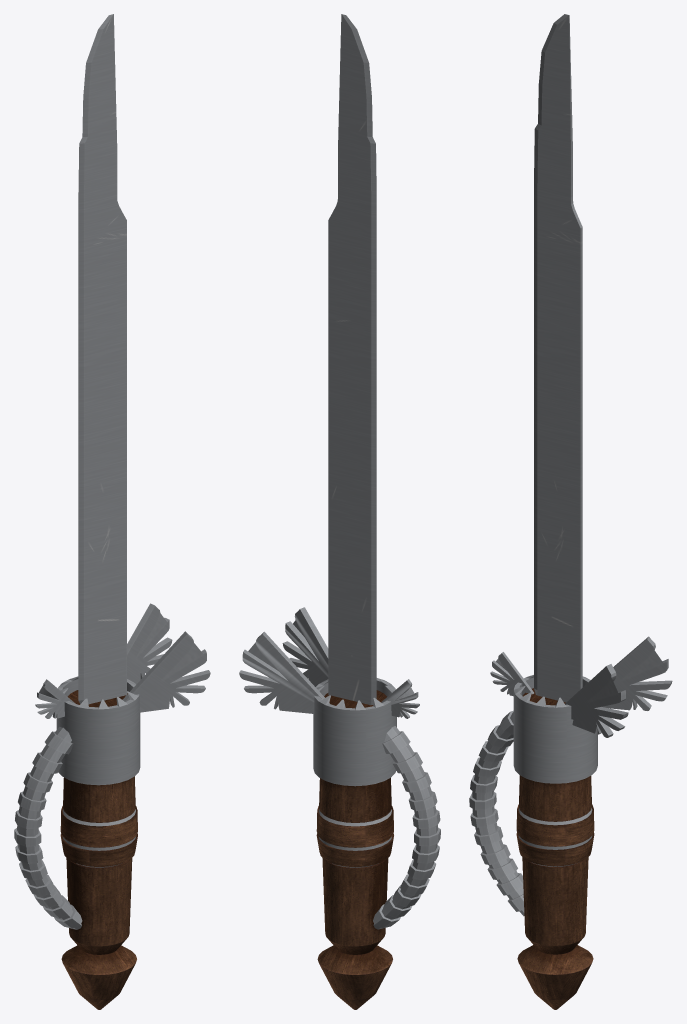
File: Sword_04.fbx
3 renders of one model, left to right at view 1: azimuth 30°, elevation 25°; view 2: azimuth 150°, elevation 25°; view 3: azimuth 330°, elevation 25°, orthographic.
Parts seen in each view (by area): view 1: Sword_04; view 2: Sword_04; view 3: Sword_04.
Part boxes in pixels (bbox=[...]): Sword_04: bbox=[14, 14, 210, 1009]; Sword_04: bbox=[239, 14, 440, 1009]; Sword_04: bbox=[469, 14, 672, 1009].
Bounding box in the file's own units: 8.27 × 44.38 × 3.72.
Materials: 6 (6 with a texture image).
